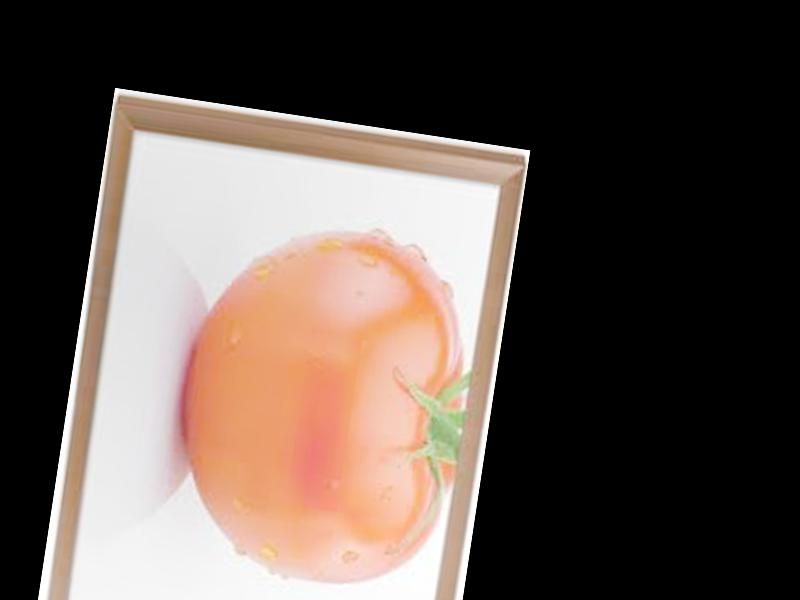Tomato: (159, 209, 490, 599)
